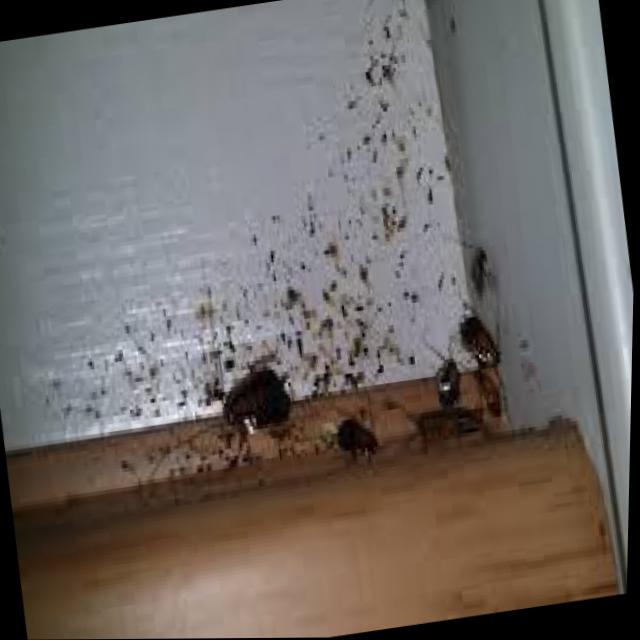Cockroach: (197, 327, 316, 482)
